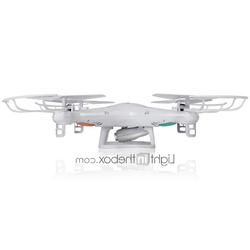drone: (1, 91, 248, 149)
